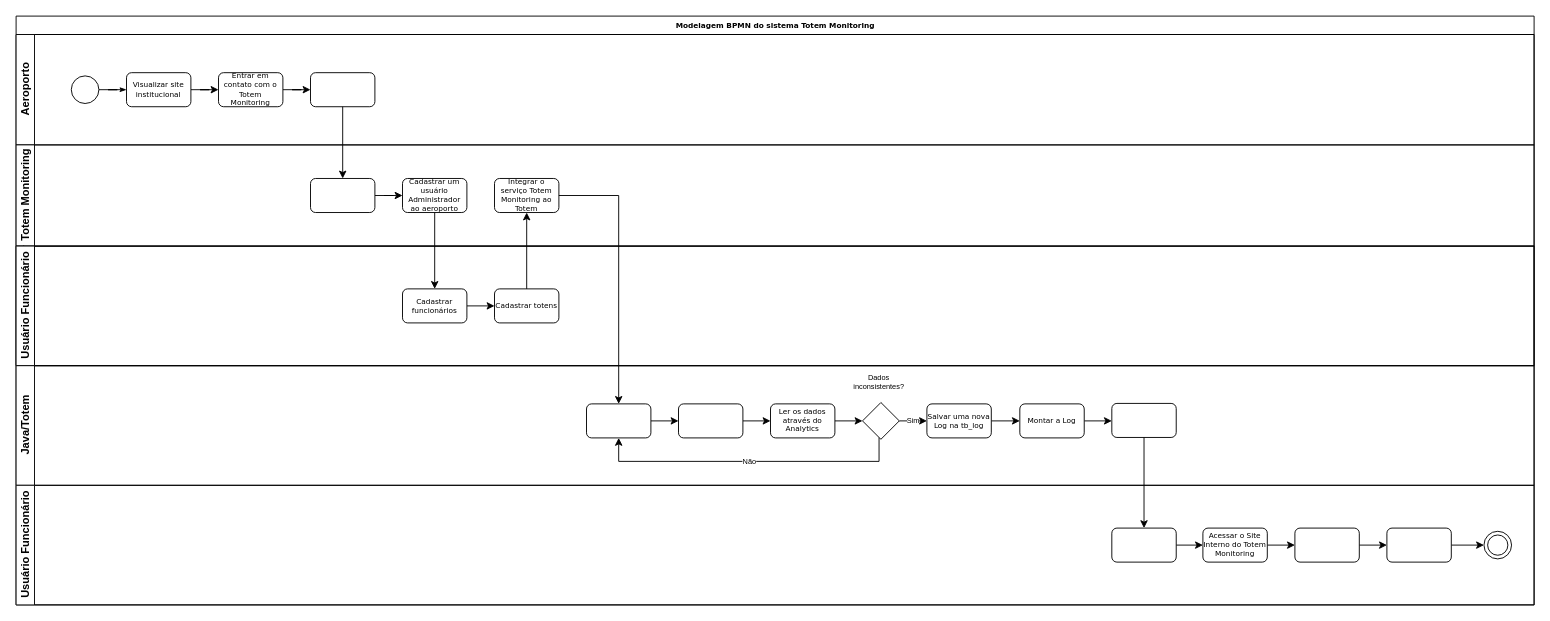
This 1550x621 diagram has some shape labels left out. Here are the shapes that lost their labels. From the top down, the centre of each, then its label:
At pixel 342 89: "Informar dados para contrato".
At pixel 342 195: "Cadastrar o Aeroporto".
At pixel 618 420: "Capturar informações de Hardware via OSHI".
At pixel 710 420: "Inserir captura no Banco de Dados".
At pixel 1143 419: "Enviar notificação no Slack".
At pixel 1143 544: "Visualizar notificação de Log no Slack".
At pixel 1326 544: "Visualizar os Dashboards".
At pixel 1418 544: "Analisar os Dashboards em conjunto as Logs".
